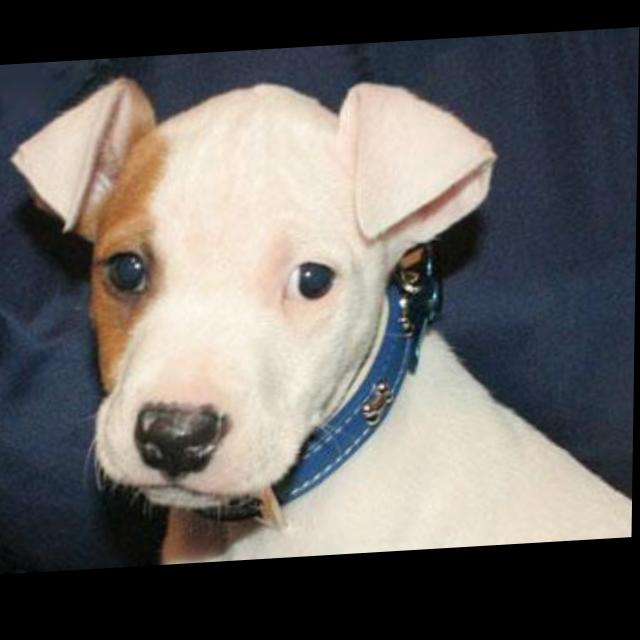staffford: (6, 54, 640, 576)
